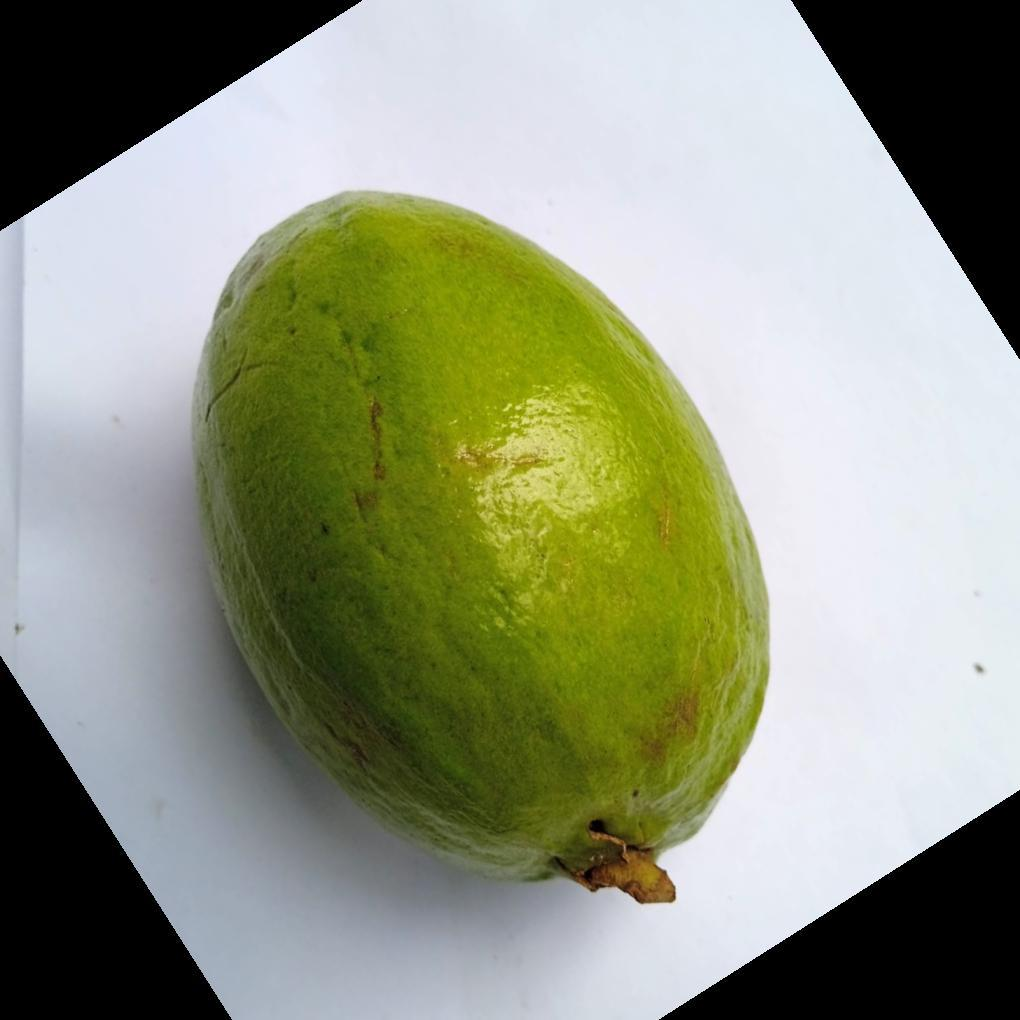FreshGuava: (188, 191, 773, 906)
